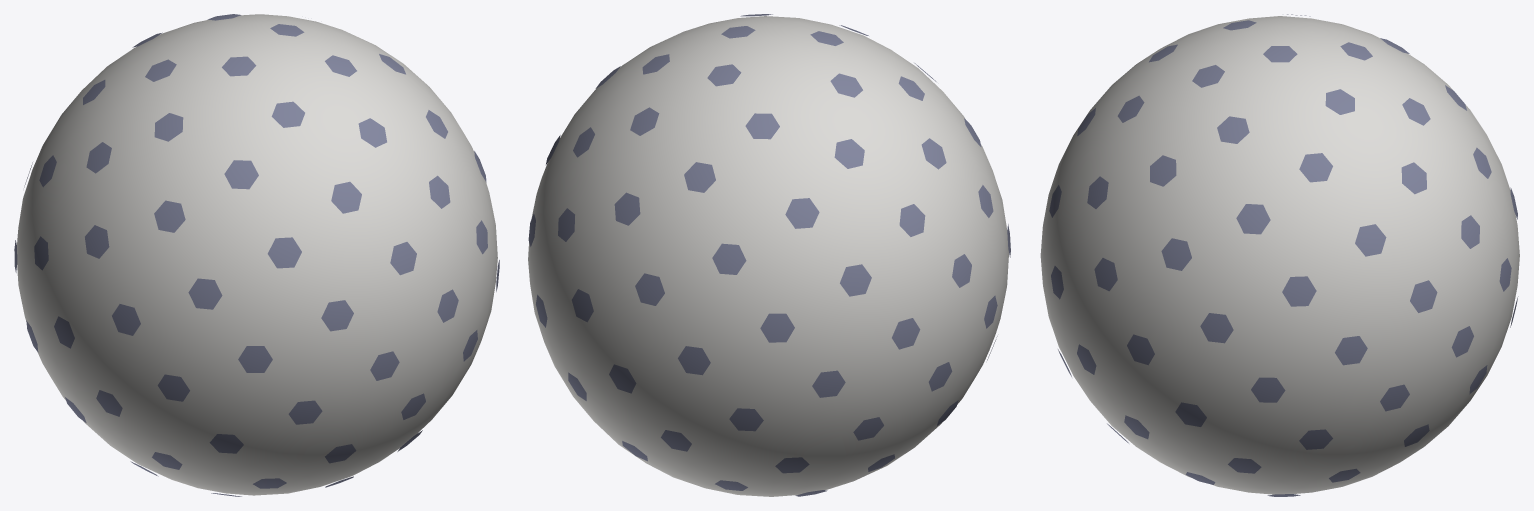
Rendered from golf.glb.
The picture shows the model from 3 angles, left to right: view 1: azimuth 30°, elevation 25°; view 2: azimuth 150°, elevation 25°; view 3: azimuth 270°, elevation 25°; orthographic projection.
Parts seen in each view (by area): view 1: golf; view 2: golf; view 3: golf.
Boxes of the visible parts, <box> form: golf: <box>14,14,499,496</box>; golf: <box>528,14,1010,496</box>; golf: <box>1040,14,1519,496</box>.
Size of the model in its own units: 1.98 by 1.99 by 1.98.
